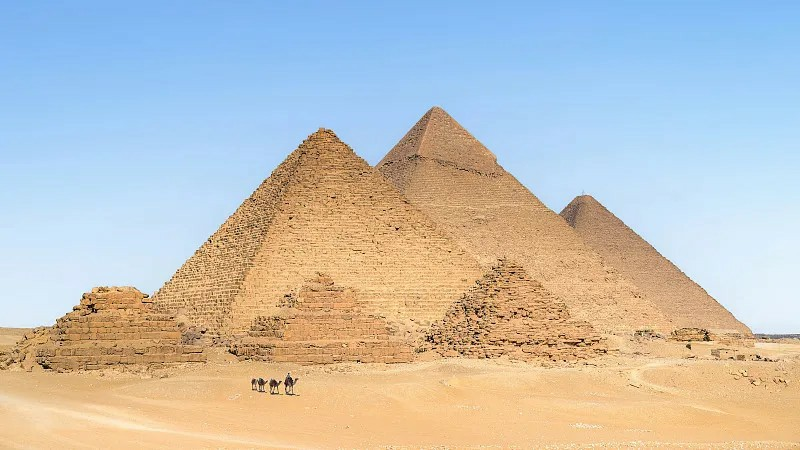Pyramid: (377, 106, 678, 338), (154, 129, 486, 336), (559, 195, 753, 336), (425, 257, 610, 363), (233, 272, 414, 366), (27, 287, 206, 366)
